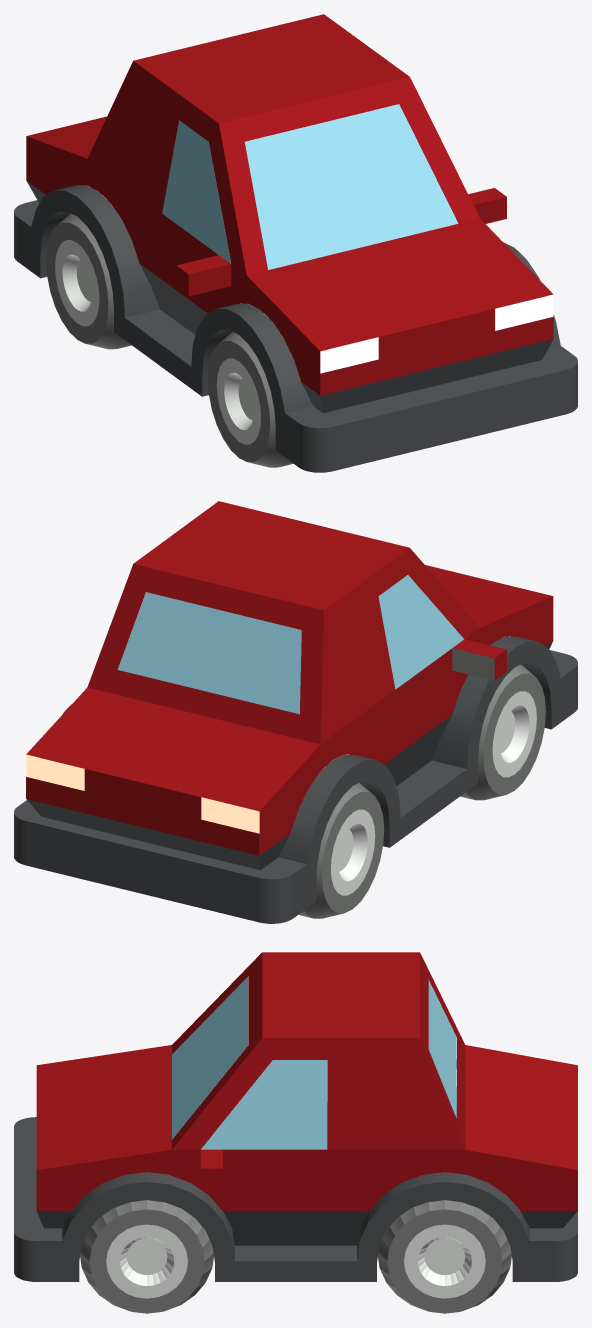
Rendered from sedan.glb.
3 views of the same model, one above another, from view 1: azimuth 30°, elevation 25°; view 2: azimuth 150°, elevation 25°; view 3: azimuth 270°, elevation 25° (orthographic). The views are drawn at different scales.
Visible parts, largest first — view 1: body.007, wheel_frontRight.007, wheel_backRight.007; view 2: body.007, wheel_frontRight.007, wheel_backRight.007; view 3: body.007, wheel_backLeft.007, wheel_frontLeft.007.
Part boxes in pixels (x1,y1,x2,y2): body.007: (14,14,577,472); wheel_frontRight.007: (207,332,322,467); wheel_backRight.007: (46,204,131,349); body.007: (14,501,577,923); wheel_frontRight.007: (457,649,545,800); wheel_backRight.007: (298,770,384,918); body.007: (14,952,577,1281); wheel_backLeft.007: (378,1172,511,1313); wheel_frontLeft.007: (80,1172,213,1313).
Bounding box in the file's own units: 1.5 × 1.3 × 2.5.
Materials: 3 (3 with a texture image).
